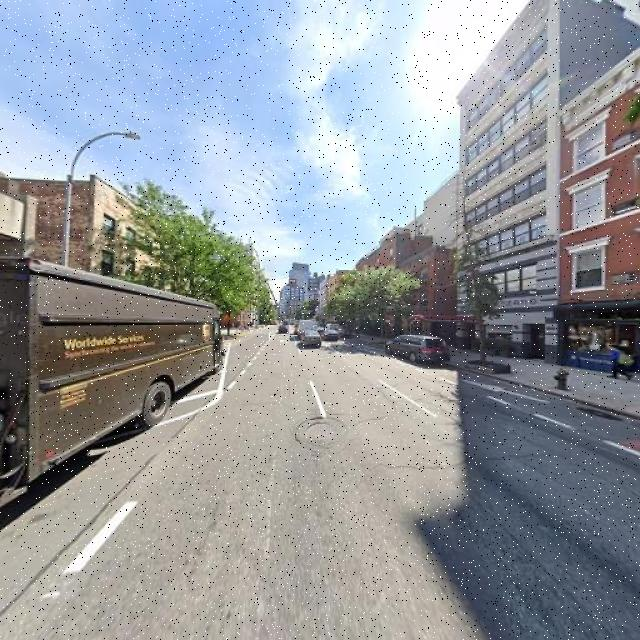Building: (455, 1, 557, 365), (563, 63, 640, 379), (1, 195, 29, 353)
